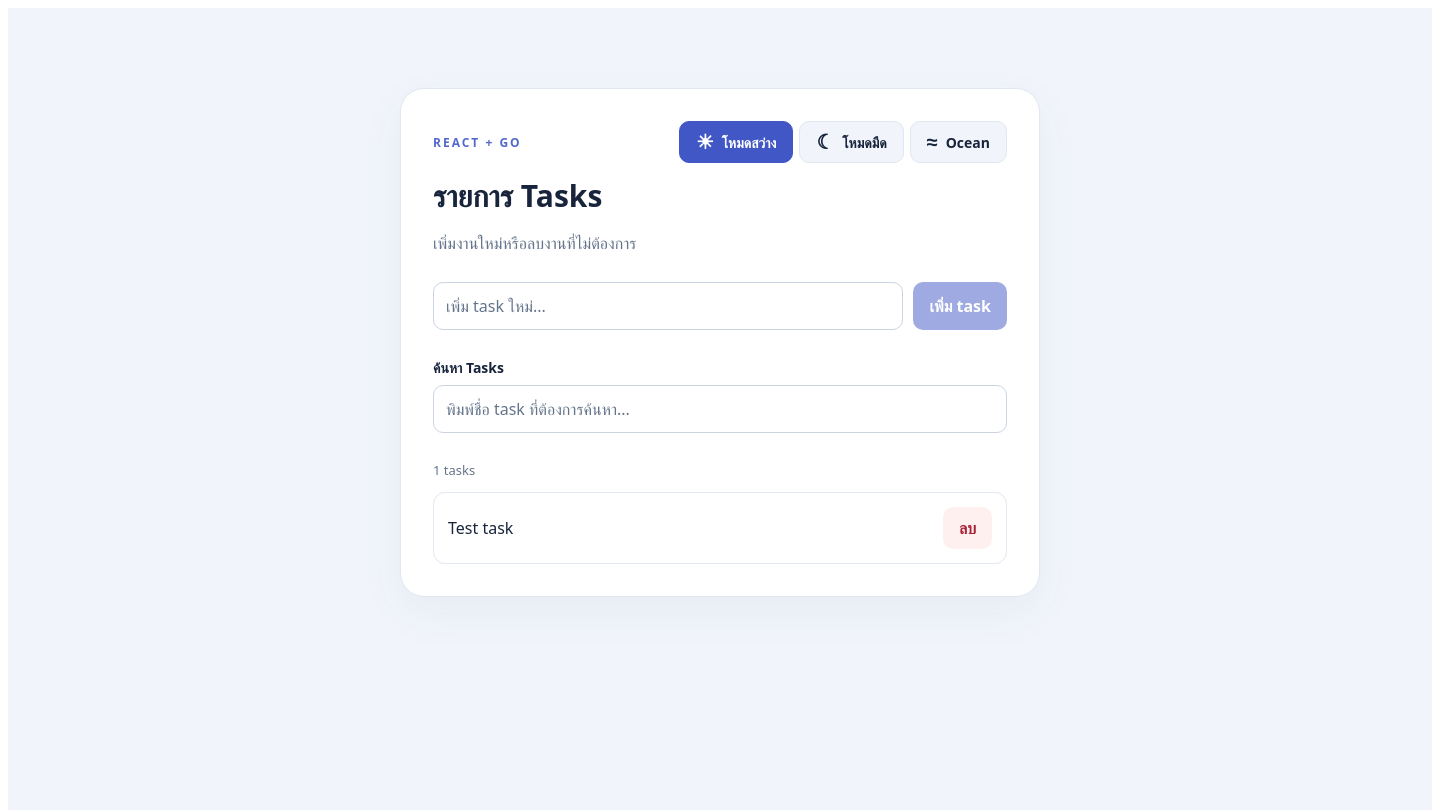
Test: App › deletes a task
What coordinates should you click on to do the following:
click the button "ลบ"
I would click on:
 (967, 528)
Its box is x1=943 y1=507 x2=992 y2=549.
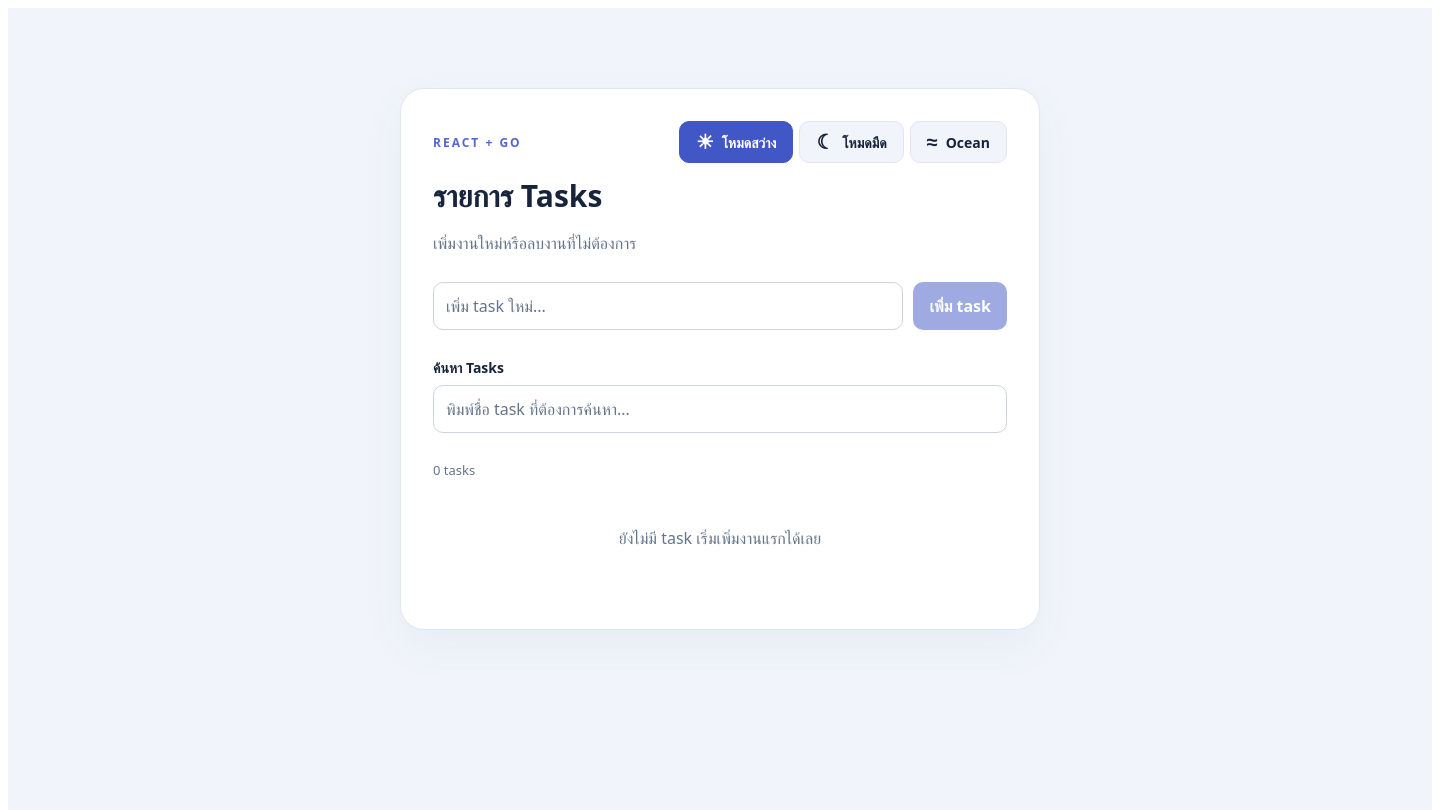
Expected: the text "ยังไม่มี task เริ่มเพิ่มงานแรกได้เลย" is shown, x1=619 y1=527 x2=821 y2=549
